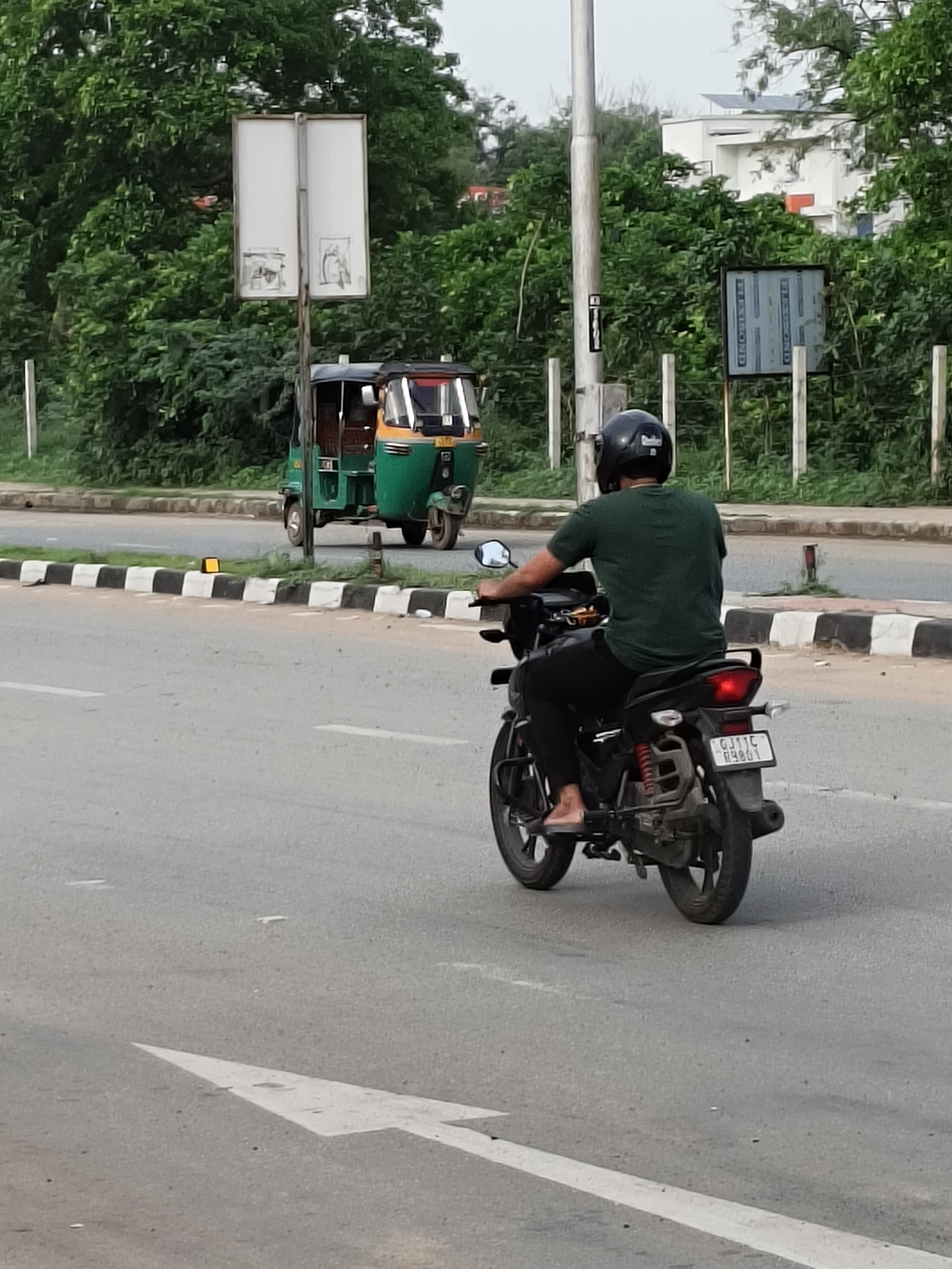BikeWithRider: (459, 397, 799, 934)
Helmet: (581, 400, 685, 501)
